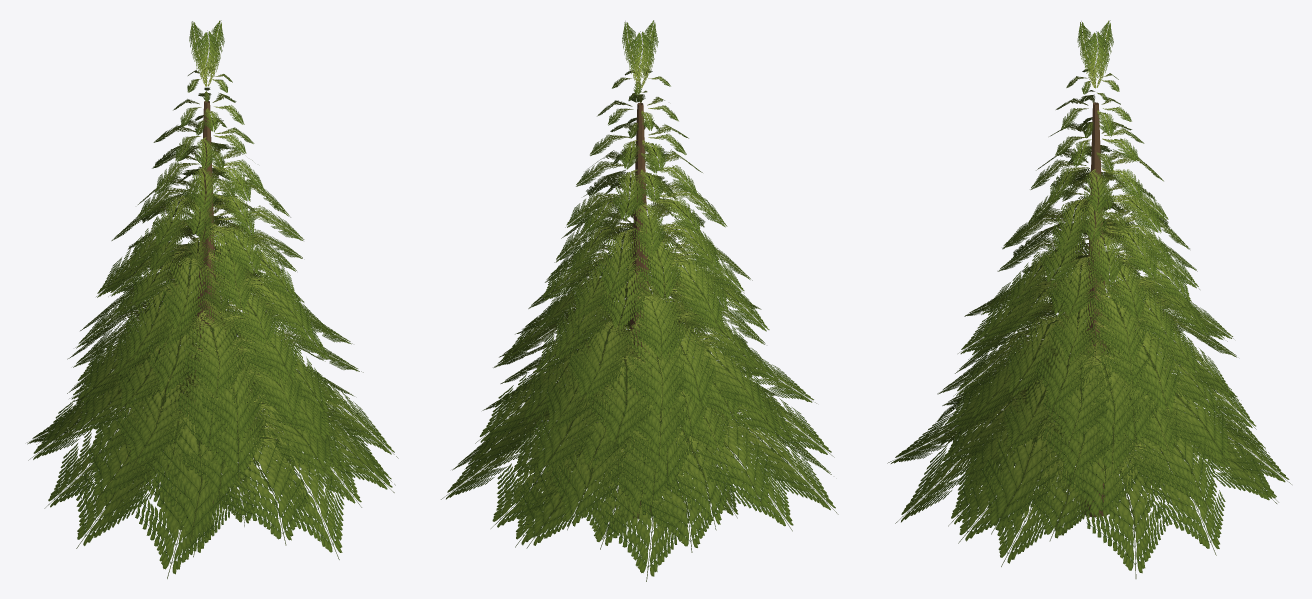
The model's file is pine_a.glb.
3 renders of one model, left to right at view 1: azimuth 30°, elevation 25°; view 2: azimuth 150°, elevation 25°; view 3: azimuth 270°, elevation 25°, orthographic. The views are drawn at different scales.
Parts seen in each view (by area): view 1: pine_a; view 2: pine_a; view 3: pine_a.
Part boxes in pixels (x1=…): pine_a: x1=27, y1=20, x2=398, y2=578; pine_a: x1=441, y1=20, x2=838, y2=581; pine_a: x1=887, y1=20, x2=1291, y2=578.
Bounding box in the file's own units: 5.22 × 6.84 × 5.31.
Materials: 2 (2 with a texture image).
